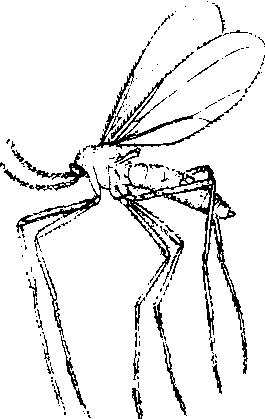Cecidomyiidae: (1, 1, 262, 417)
